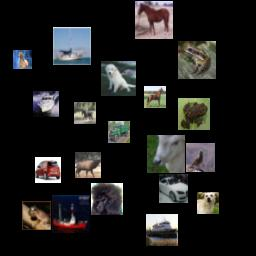automobile: (159, 174, 188, 203), (35, 157, 61, 183)
bird: (186, 143, 215, 172)
deer: (147, 135, 185, 173), (75, 152, 101, 178)
dog: (101, 61, 136, 96), (91, 183, 123, 215), (197, 192, 219, 214)
frog: (178, 41, 216, 79), (178, 98, 210, 130), (22, 201, 51, 230)
ship: (53, 27, 91, 65), (52, 195, 90, 233), (146, 214, 178, 246), (33, 91, 59, 117)
truck: (108, 121, 130, 143)
